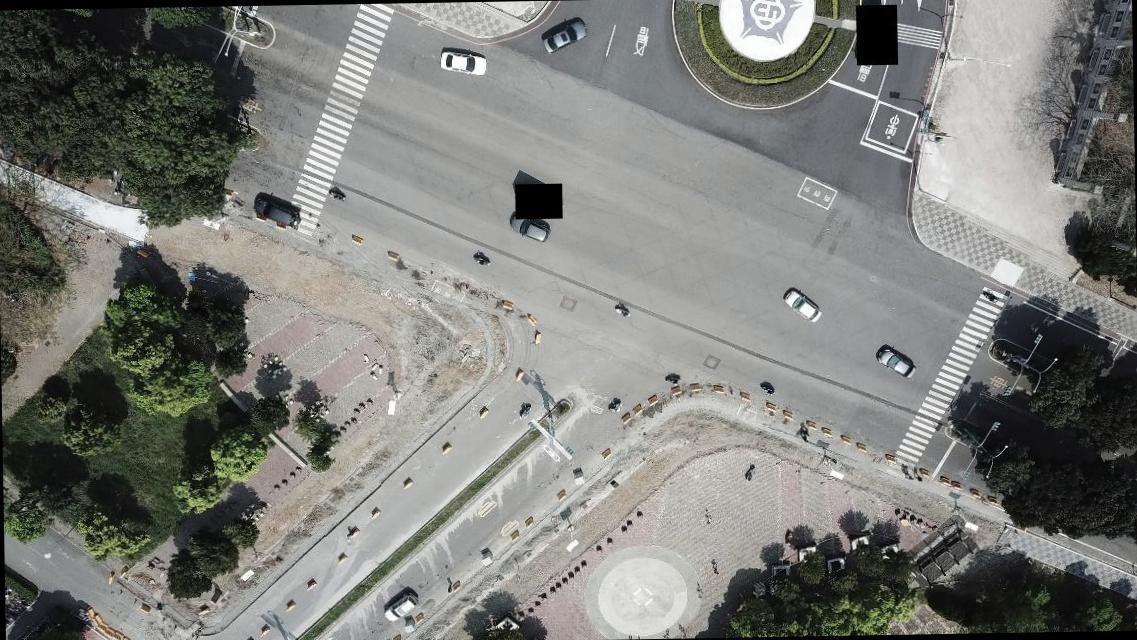vehicle: (542, 17, 588, 54), (253, 196, 300, 228), (782, 288, 822, 324), (876, 345, 916, 380), (509, 213, 549, 243), (440, 52, 487, 76), (384, 592, 418, 622)
